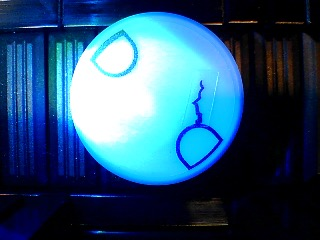CRACK: (69, 12, 245, 186)
